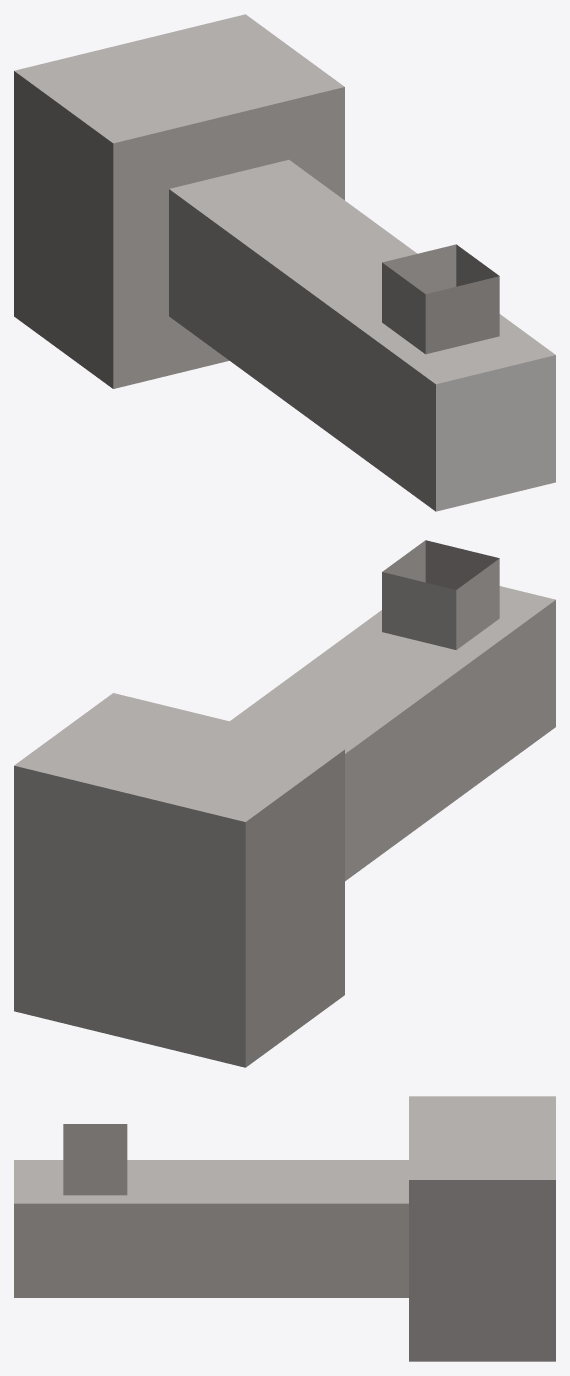
Rendered from SM_SecurityCamera_01.fbx.
The picture shows the model from 3 angles, top to bottom: view 1: azimuth 30°, elevation 25°; view 2: azimuth 150°, elevation 25°; view 3: azimuth 270°, elevation 25°; orthographic projection. The views are drawn at different scales.
Parts seen in each view (by area): view 1: SM_SecurityCamera_01; view 2: SM_SecurityCamera_01; view 3: SM_SecurityCamera_01.
Boxes of the visible parts, left/top/right/bottom form: SM_SecurityCamera_01: left=14, top=14, right=555, bottom=511; SM_SecurityCamera_01: left=14, top=540, right=555, bottom=1067; SM_SecurityCamera_01: left=14, top=1096, right=555, bottom=1361.
Bounding box in the file's own units: 0.2658 × 0.2705 × 0.7276.
